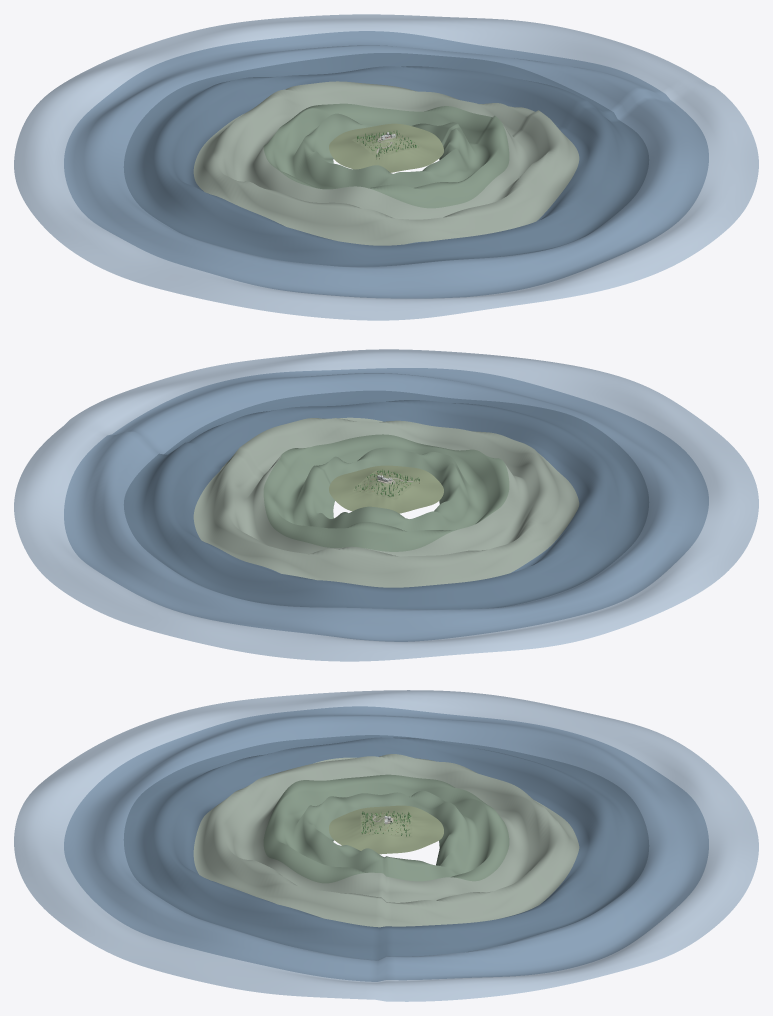
File: dot-facility-web-safe-v2.glb
The picture shows the model from 3 angles, top to bottom: view 1: azimuth 30°, elevation 25°; view 2: azimuth 150°, elevation 25°; view 3: azimuth 270°, elevation 25°; orthographic projection.
Parts seen in each view (by area): view 1: DOT_ContinuousMountainWorld, DOT_360_Transition, DOT_Terrain; view 2: DOT_ContinuousMountainWorld, DOT_360_Transition, DOT_Terrain; view 3: DOT_ContinuousMountainWorld, DOT_360_Transition, DOT_Terrain.
Part boxes in pixels (bbox=[...]): DOT_ContinuousMountainWorld: bbox=[14, 14, 758, 320]; DOT_360_Transition: bbox=[329, 123, 443, 172]; DOT_Terrain: bbox=[351, 131, 421, 158]; DOT_ContinuousMountainWorld: bbox=[14, 349, 758, 661]; DOT_360_Transition: bbox=[329, 465, 443, 513]; DOT_Terrain: bbox=[351, 470, 421, 500]; DOT_ContinuousMountainWorld: bbox=[14, 690, 758, 1001]; DOT_360_Transition: bbox=[329, 805, 443, 854]; DOT_Terrain: bbox=[360, 812, 412, 837].
Bounding box in the file's own units: 3300 × 239 × 3300.
